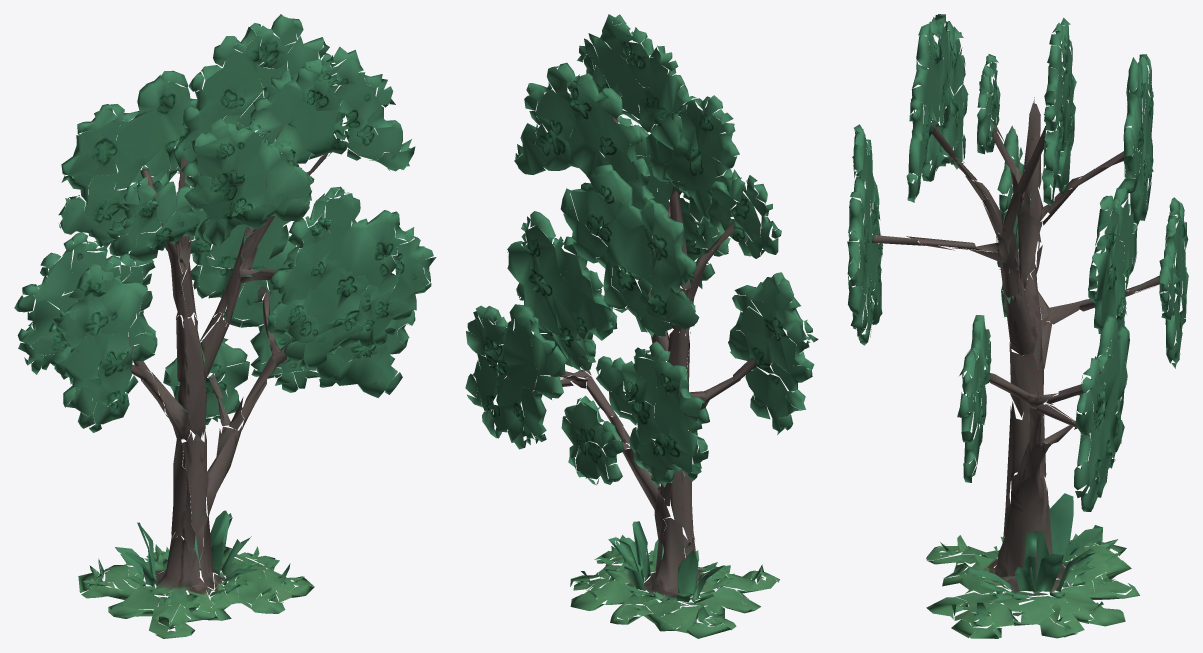
The model's file is green01.glb.
The picture shows the model from 3 angles, left to right: view 1: azimuth 30°, elevation 25°; view 2: azimuth 150°, elevation 25°; view 3: azimuth 270°, elevation 25°; orthographic projection. The views are drawn at different scales.
Parts seen in each view (by area): view 1: tripo_node_92bb1b5d-08f2-4939-9354-7464d105332c; view 2: tripo_node_92bb1b5d-08f2-4939-9354-7464d105332c; view 3: tripo_node_92bb1b5d-08f2-4939-9354-7464d105332c.
Boxes of the visible parts, x1=… form: tripo_node_92bb1b5d-08f2-4939-9354-7464d105332c: x1=14, y1=14, x2=436, y2=638; tripo_node_92bb1b5d-08f2-4939-9354-7464d105332c: x1=465, y1=14, x2=818, y2=638; tripo_node_92bb1b5d-08f2-4939-9354-7464d105332c: x1=847, y1=14, x2=1188, y2=638.
Bounding box in the file's own units: 0.6521 × 1 × 0.4998.
Materials: 1 (1 with a texture image).
